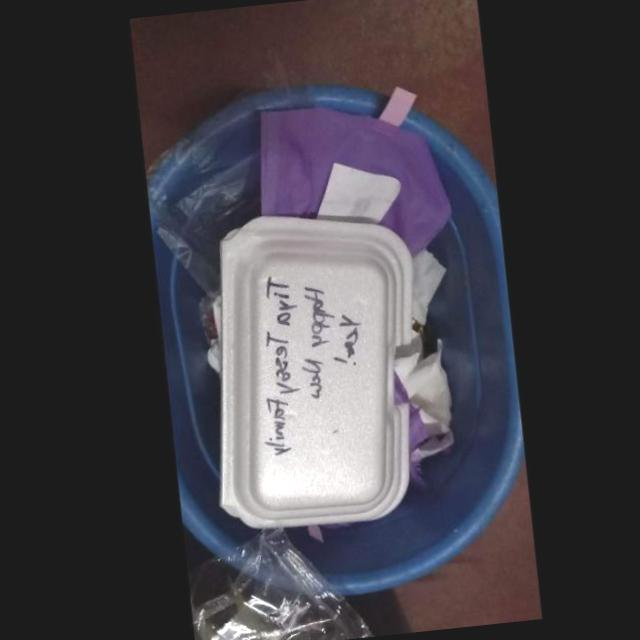khau_trang: (260, 106, 452, 257)
xop: (218, 213, 414, 527)
